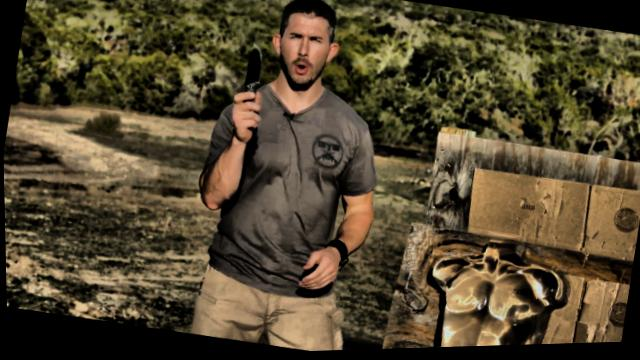knife: (220, 36, 274, 143)
